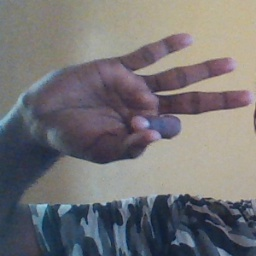K: (23, 29, 252, 165)
